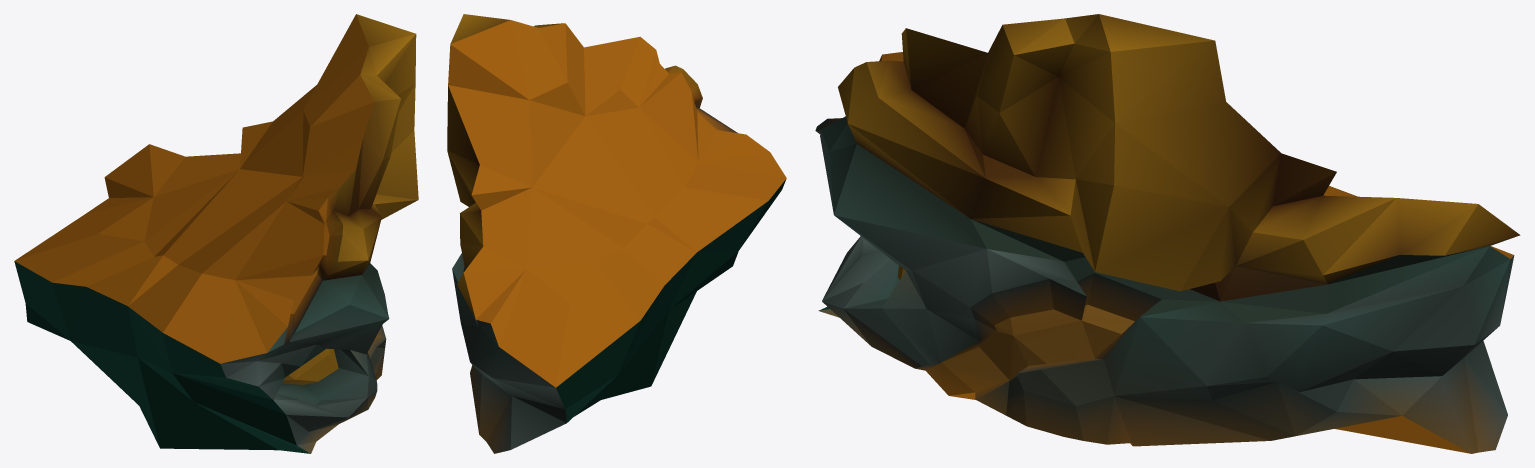
The model's file is ENV_Totem_01_BrokenPiece_03.fbx.
3 renders of one model, left to right at view 1: azimuth 30°, elevation 25°; view 2: azimuth 150°, elevation 25°; view 3: azimuth 270°, elevation 25°, orthographic. The views are drawn at different scales.
Visible parts, largest first — view 1: ENV_Totem_01_BrokenPiece_03; view 2: ENV_Totem_01_BrokenPiece_03; view 3: ENV_Totem_01_BrokenPiece_03.
Boxes of the visible parts, box(x1,y1,x2,y2) form: ENV_Totem_01_BrokenPiece_03: box(14, 14, 418, 453); ENV_Totem_01_BrokenPiece_03: box(447, 14, 786, 453); ENV_Totem_01_BrokenPiece_03: box(815, 14, 1520, 453).
Bounding box in the file's own units: 214 × 250 × 308.
